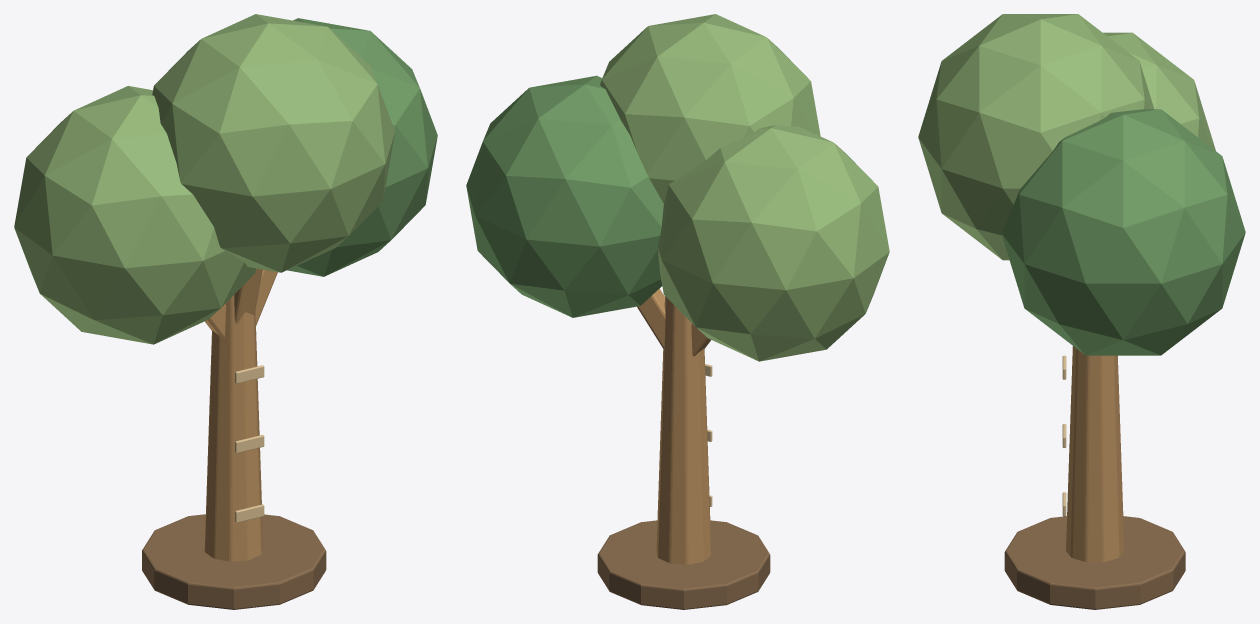
The model's file is S066_broadleaf_tree.glb.
The picture shows the model from 3 angles, left to right: view 1: azimuth 30°, elevation 25°; view 2: azimuth 150°, elevation 25°; view 3: azimuth 270°, elevation 25°; orthographic projection. The views are drawn at different scales.
Visible parts, largest first — view 1: foam_leaf_cluster.002, foam_leaf_cluster, tree_base, tree_trunk, foam_leaf_cluster.001, tree_branch.002; view 2: foam_leaf_cluster, foam_leaf_cluster.001, foam_leaf_cluster.002, tree_trunk, tree_base, tree_branch.001; view 3: foam_leaf_cluster.001, foam_leaf_cluster.002, tree_base, tree_trunk, foam_leaf_cluster.
Boxes of the visible parts, <box> form: foam_leaf_cluster.002: <box>152,14,395,272</box>; foam_leaf_cluster: <box>14,86,256,344</box>; tree_base: <box>142,514,326,609</box>; tree_trunk: <box>204,295,263,561</box>; foam_leaf_cluster.001: <box>287,18,437,276</box>; tree_branch.002: <box>234,268,262,323</box>; foam_leaf_cluster: <box>657,125,889,361</box>; foam_leaf_cluster.001: <box>466,75,663,317</box>; foam_leaf_cluster.002: <box>600,14,820,202</box>; tree_trunk: <box>656,296,711,564</box>; tree_base: <box>597,520,770,609</box>; tree_branch.001: <box>637,288,665,349</box>; foam_leaf_cluster.001: <box>1002,109,1245,355</box>; foam_leaf_cluster.002: <box>918,14,1153,260</box>; tree_base: <box>1004,516,1185,609</box>; tree_trunk: <box>1066,346,1124,562</box>; foam_leaf_cluster: <box>1103,32,1215,150</box>.
Size of the model in its own units: 2.4 by 3.26 by 1.74.
